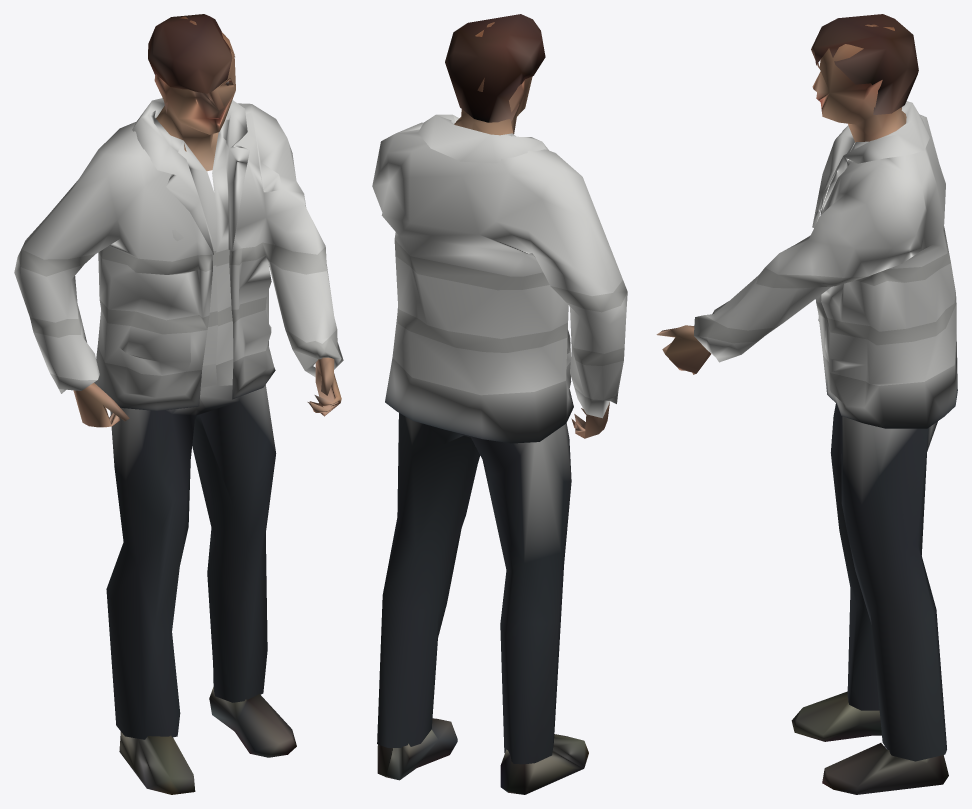
The model's file is baker.glb.
3 renders of one model, left to right at view 1: azimuth 30°, elevation 25°; view 2: azimuth 150°, elevation 25°; view 3: azimuth 270°, elevation 25°, orthographic. The views are drawn at different scales.
Parts seen in each view (by area): view 1: baker; view 2: baker; view 3: baker.
Boxes of the visible parts, x1,y1,x2,y2 form: baker: [14, 14, 343, 794]; baker: [372, 14, 627, 794]; baker: [656, 14, 957, 794].
Bounding box in the file's own units: 0.6527 × 1.81 × 0.677.
